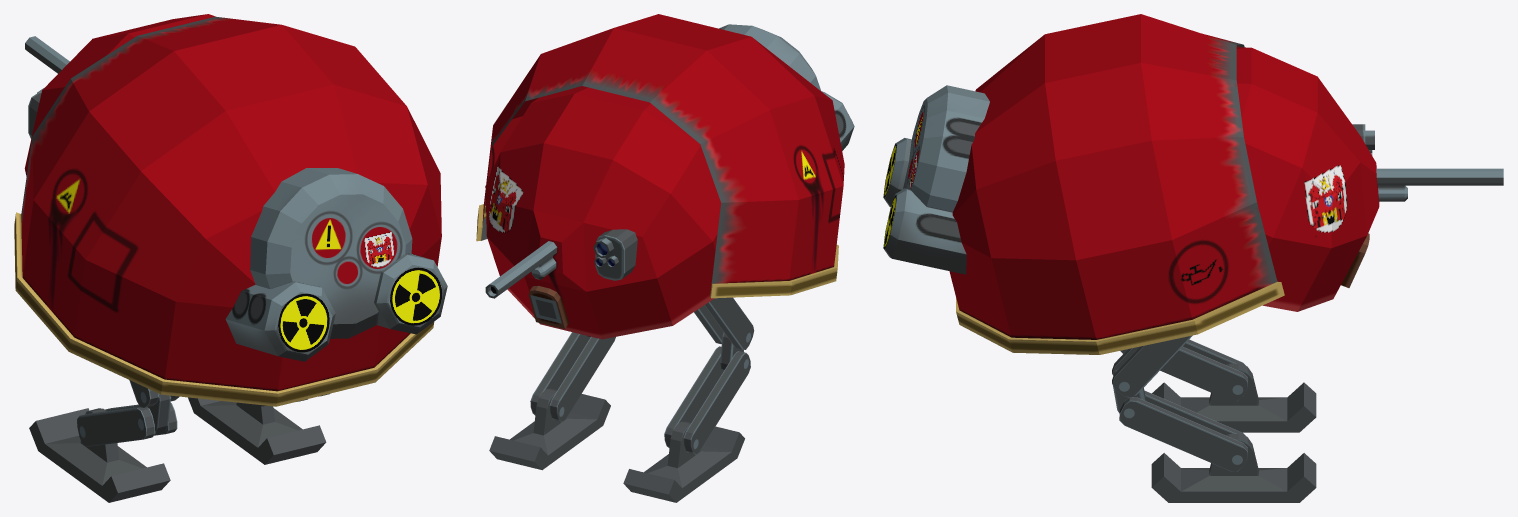
The model's file is Automaton.fbx.
3 renders of one model, left to right at view 1: azimuth 30°, elevation 25°; view 2: azimuth 150°, elevation 25°; view 3: azimuth 270°, elevation 25°, orthographic. The views are drawn at different scales.
Visible parts, largest first — view 1: AutomatonBody, LeftFoot, RightFoot, AutomatonHead, LeftCalf, LeftKnee, LeftThigh; view 2: AutomatonBody, AutomatonHead, LeftFoot, RightFoot, LeftCalf, RightCalf, LeftThigh; view 3: AutomatonBody, AutomatonHead, RightFoot, RightCalf, LeftFoot, LeftCalf, RightThigh.
Boxes of the visible parts, x1=… form: AutomatonBody: x1=14, y1=16, x2=447, y2=406; LeftFoot: x1=29, y1=408, x2=170, y2=502; RightFoot: x1=188, y1=397, x2=326, y2=464; AutomatonHead: x1=24, y1=14, x2=215, y2=176; LeftCalf: x1=77, y1=403, x2=177, y2=446; LeftKnee: x1=147, y1=394, x2=170, y2=433; LeftThigh: x1=129, y1=380, x2=179, y2=407; AutomatonBody: x1=476, y1=14, x2=854, y2=298; AutomatonHead: x1=485, y1=86, x2=720, y2=339; LeftFoot: x1=623, y1=421, x2=744, y2=502; RightFoot: x1=489, y1=388, x2=610, y2=470; LeftCalf: x1=664, y1=346, x2=750, y2=454; RightCalf: x1=530, y1=332, x2=615, y2=421; LeftThigh: x1=694, y1=297, x2=754, y2=349; AutomatonBody: x1=883, y1=14, x2=1284, y2=354; AutomatonHead: x1=1236, y1=47, x2=1503, y2=311; RightFoot: x1=1151, y1=434, x2=1316, y2=502; RightCalf: x1=1119, y1=390, x2=1247, y2=471; LeftFoot: x1=1152, y1=363, x2=1316, y2=432; LeftCalf: x1=1120, y1=339, x2=1247, y2=401; RightThigh: x1=1112, y1=335, x2=1192, y2=397.
Size of the model in its own units: 1.64 by 2.61 by 1.94.
1 material, 1 textured.
